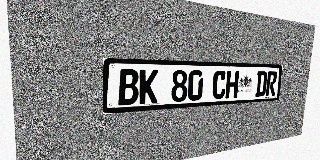0: (187, 70, 204, 101)
8: (171, 70, 188, 102)
B: (118, 69, 139, 106)
C: (212, 70, 227, 100)
D: (255, 71, 268, 97)
H: (225, 71, 239, 99)
K: (139, 69, 158, 104)
R: (265, 71, 277, 96)
